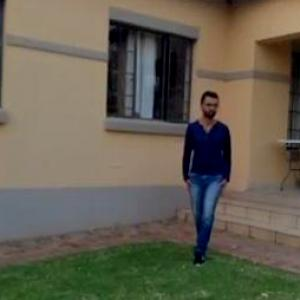follow: (181, 83, 234, 269)
